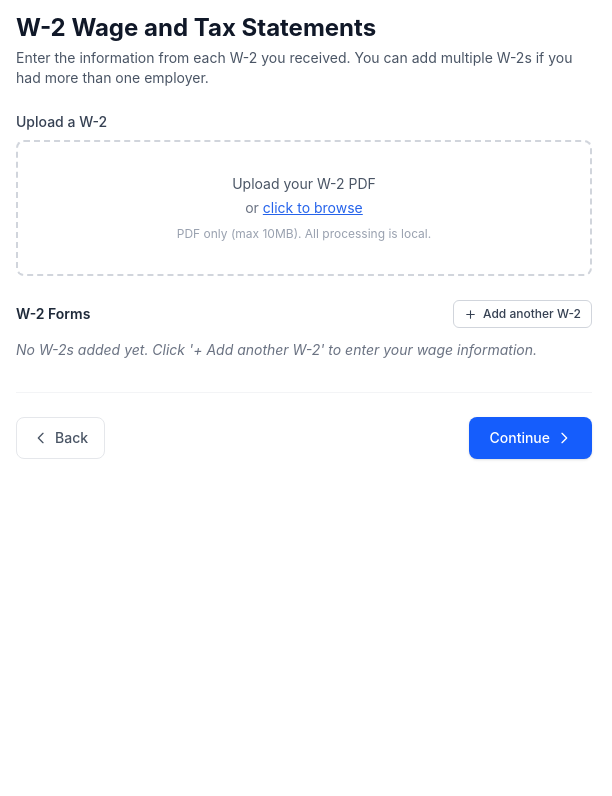
Test: W2IncomePage › adds a W-2 when clicking add button
This screenshot has width=612, height=796.
What coordinates should you click on to do the following:
click the button "Add another W-2"
I would click on:
 (522, 314)
Its box is [453,300,592,328].
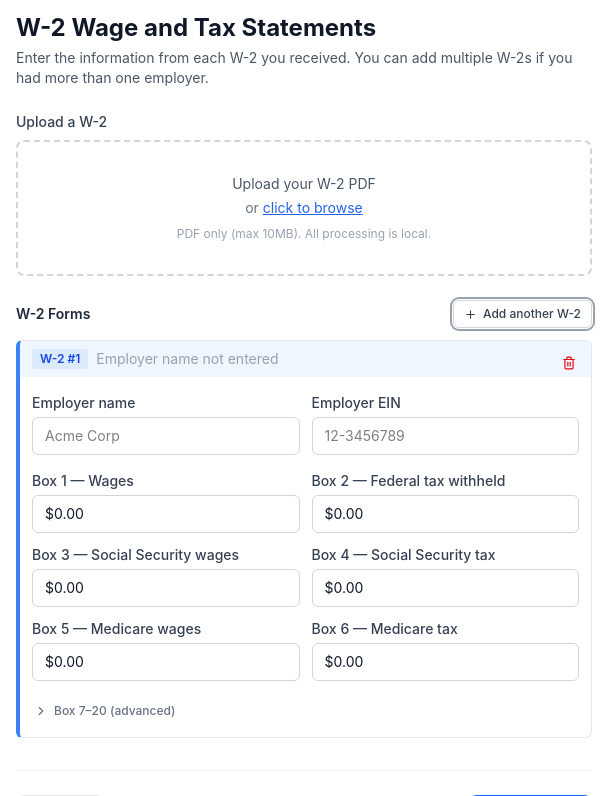
Now the field with placeholder "Acme Corp" is shown, box [32,417,300,455]
